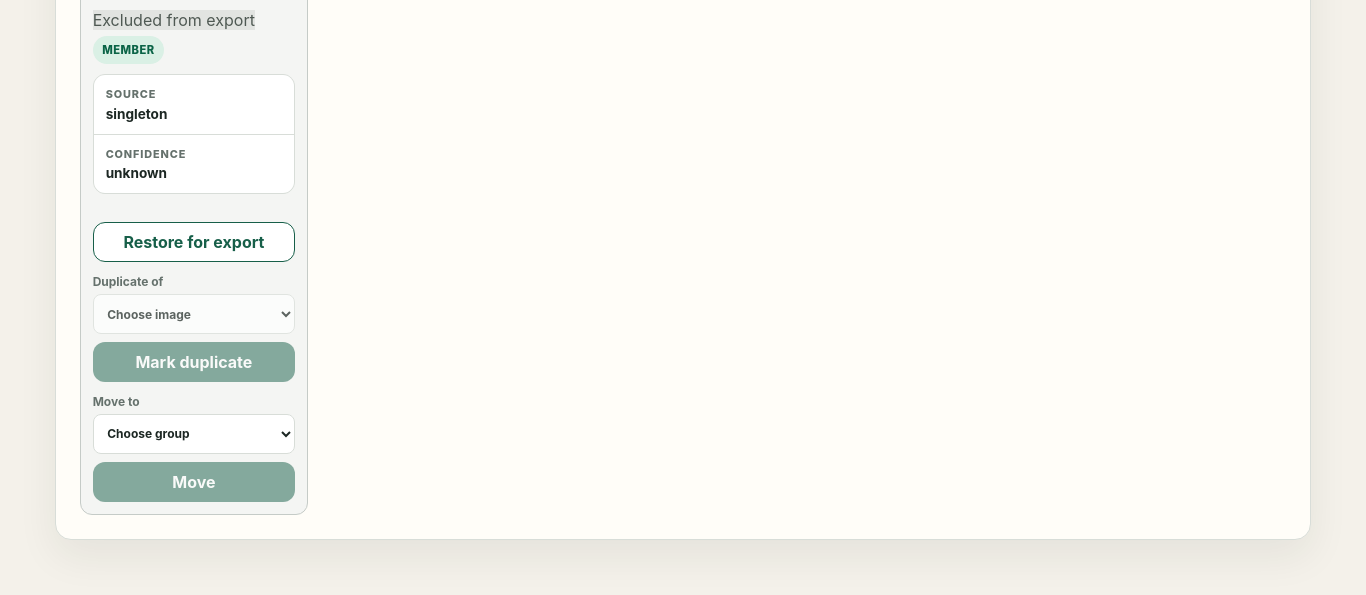
Test case: ReviewBatch › restores a rejected image directly from the returned snapshot
(page scrolled)
Click the button named "Restore back.jpg for export". click: coordinates (194, 242)
box: top-left (93, 222), bottom-right (295, 262)
(page scrolled)
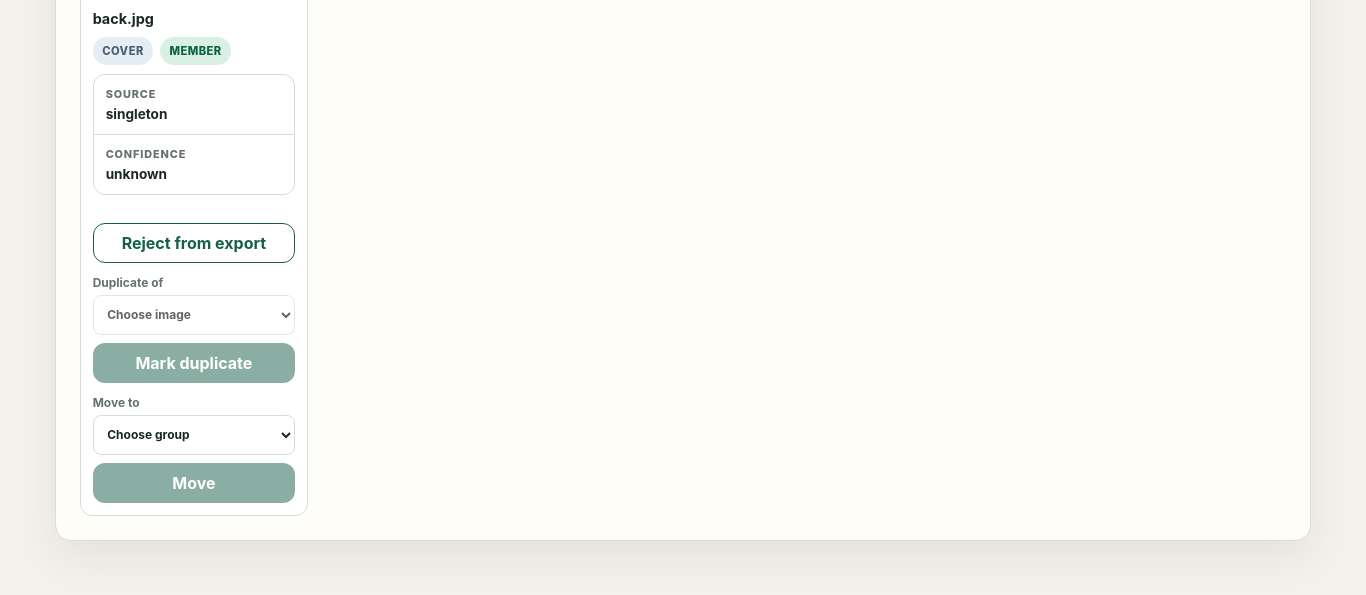
Expected: the text "Excluded from export" is gone
